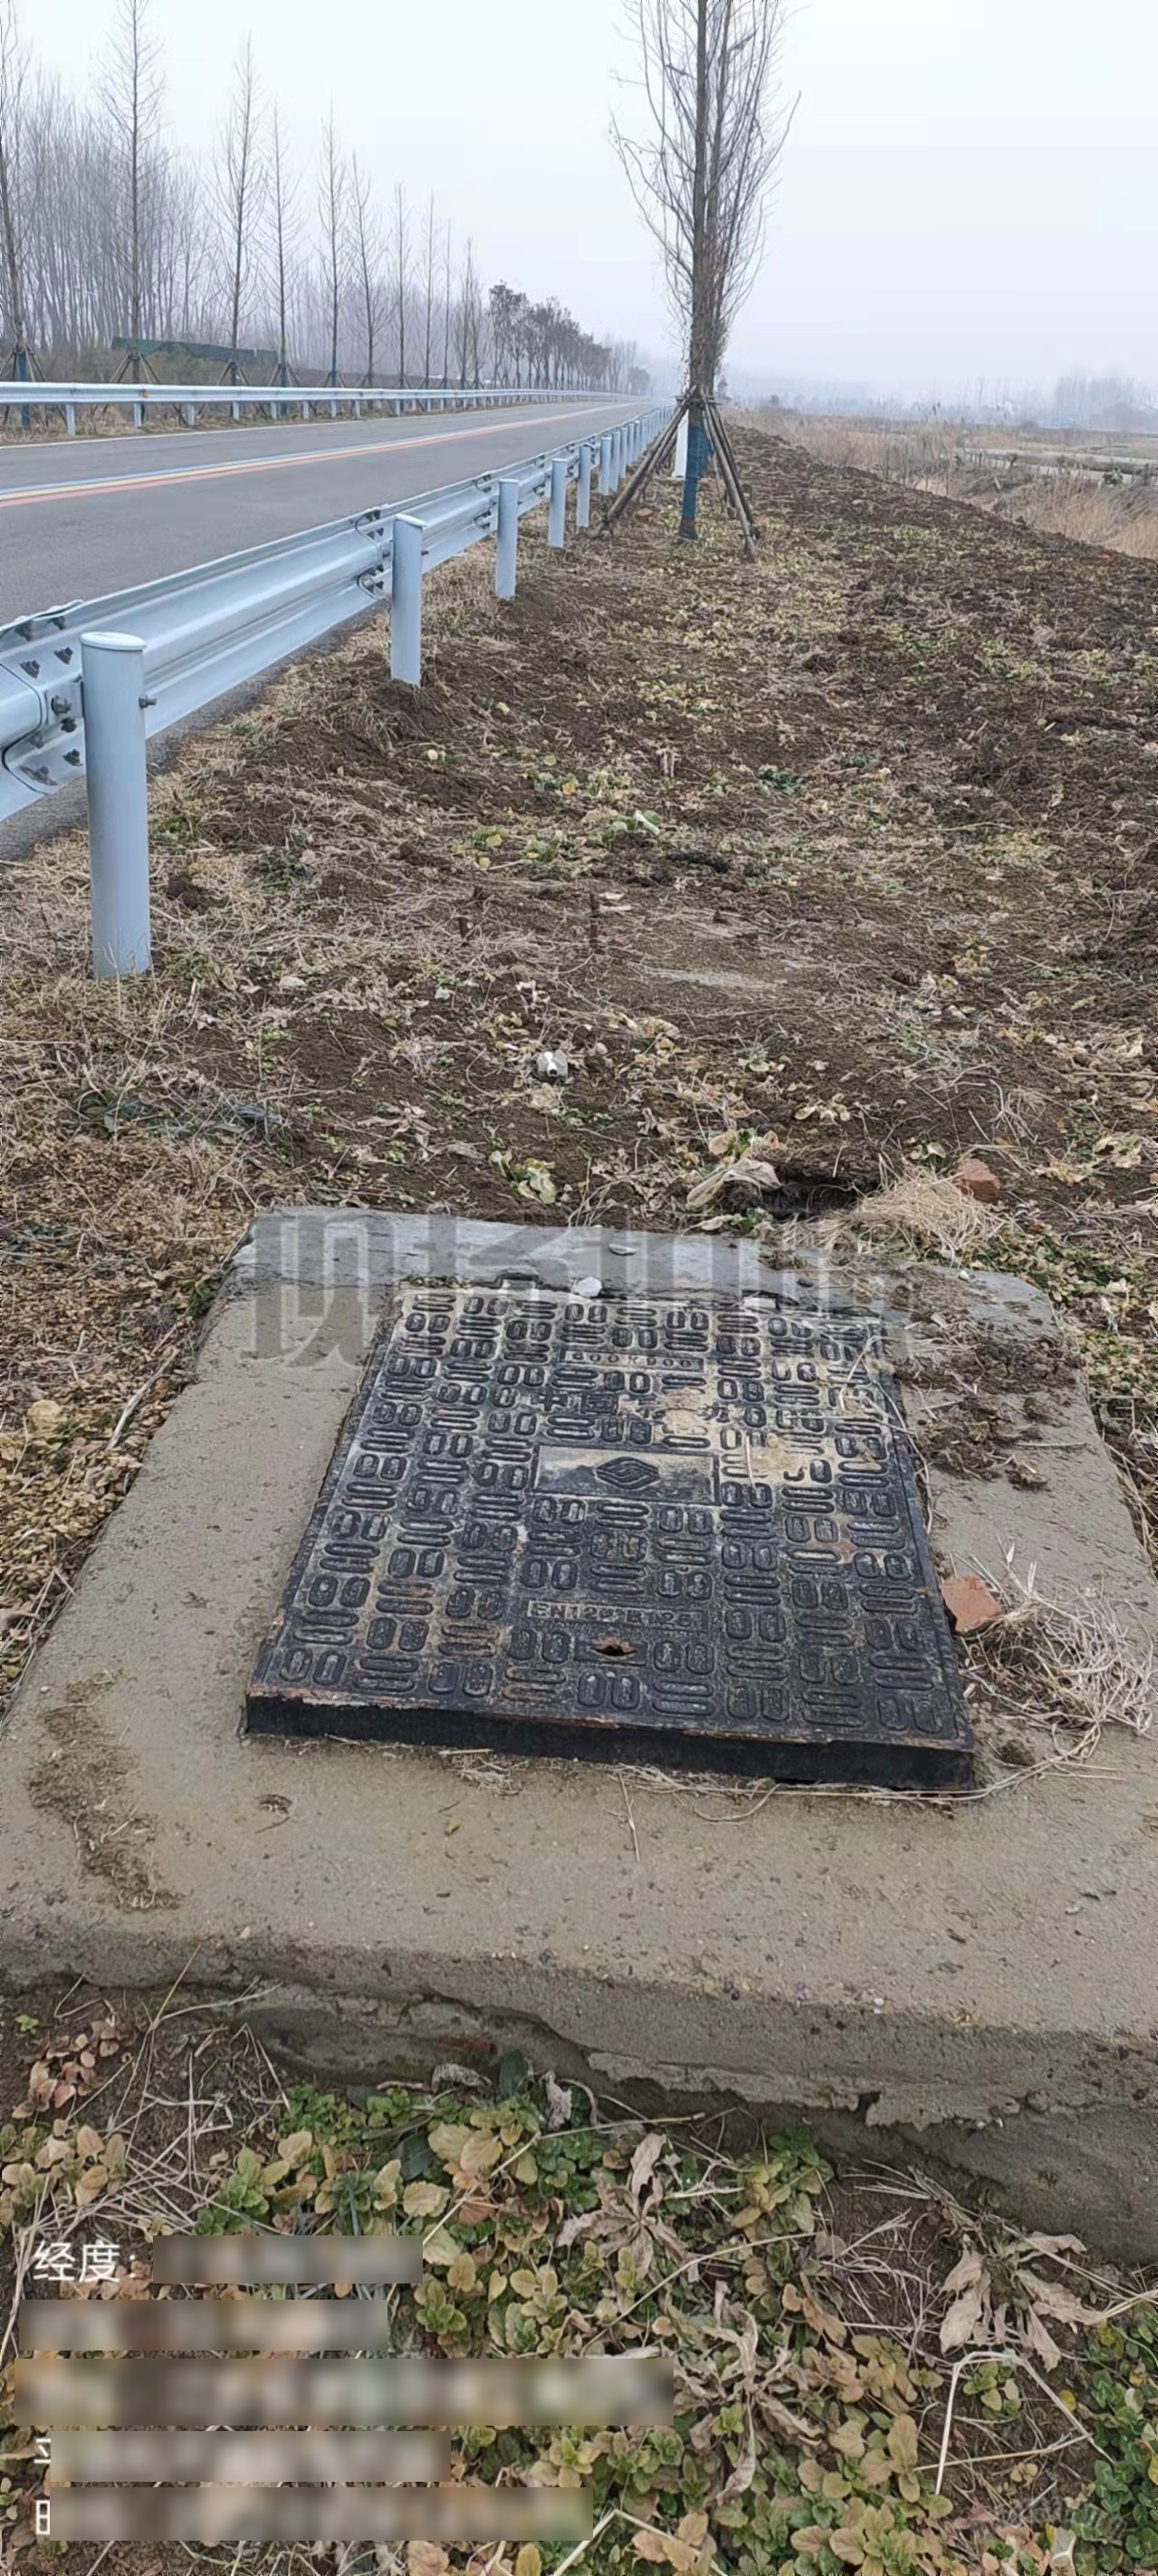good: (235, 1265, 1000, 1789)
